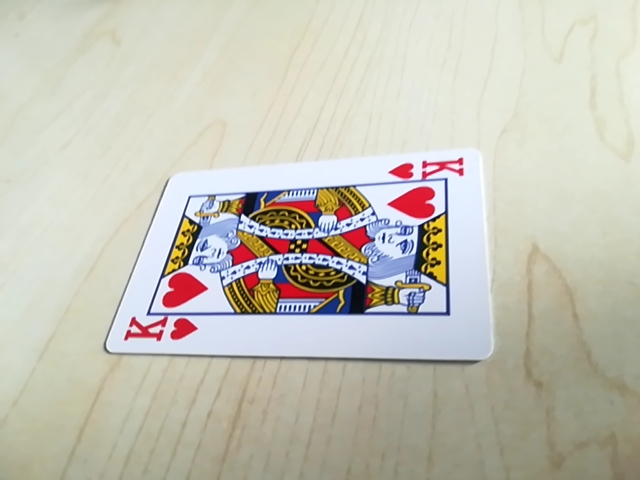hx k: (120, 313, 199, 349), (387, 155, 470, 185)
